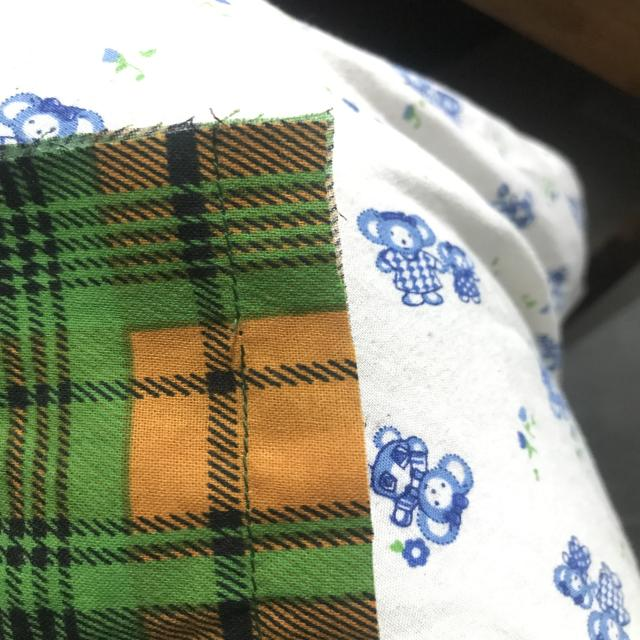broken: (225, 310, 262, 366)
good: (233, 394, 259, 496)
